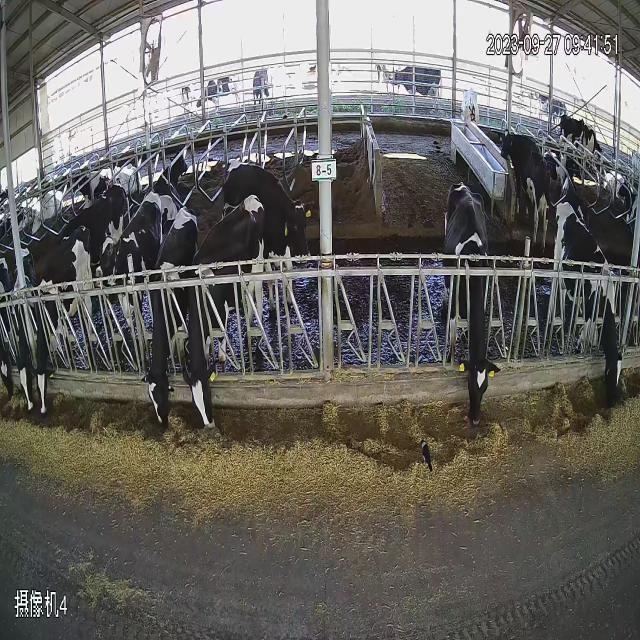drinking: (461, 82, 483, 146)
feeding: (180, 197, 268, 496), (430, 162, 515, 444), (132, 201, 211, 491), (538, 193, 634, 430), (32, 218, 94, 482), (7, 232, 40, 462), (0, 260, 15, 416)
lying down: (156, 137, 192, 202)
standing: (454, 78, 616, 212), (368, 53, 452, 114), (94, 168, 130, 290), (196, 77, 242, 113), (534, 84, 572, 125), (250, 59, 278, 112), (584, 109, 602, 164), (178, 77, 195, 110)
